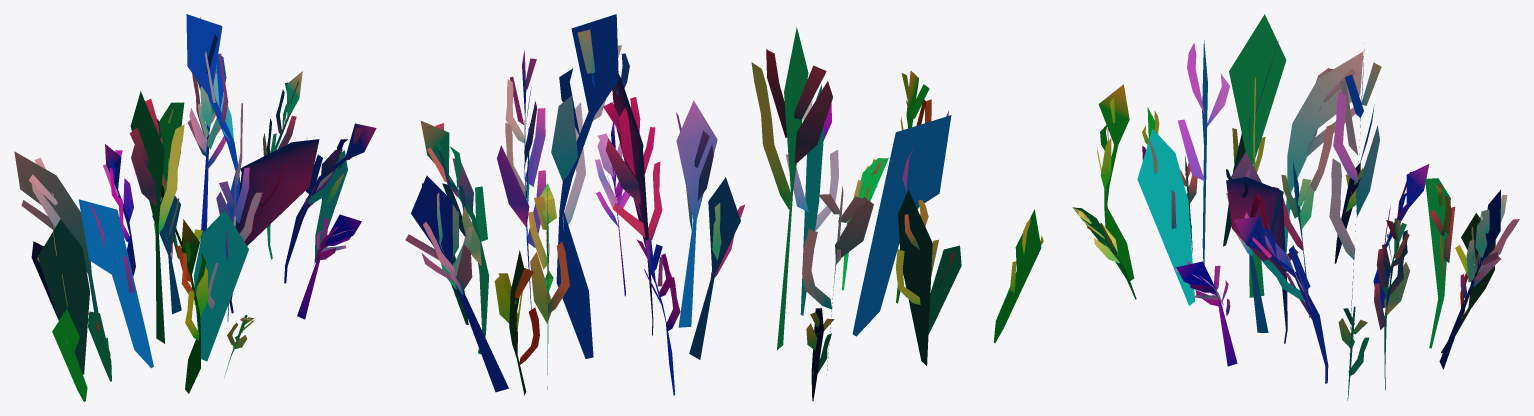
The model's file is Nordic_Coastal_Groundcover_vlqkdeaja_Mid_vlqkdeaja_VarH_LOD1.fbx.
The picture shows the model from 3 angles, left to right: view 1: azimuth 30°, elevation 25°; view 2: azimuth 150°, elevation 25°; view 3: azimuth 270°, elevation 25°; orthographic projection. The views are drawn at different scales.
Visible parts, largest first — view 1: _mf5t_VarH_LOD3; view 2: _mf5t_VarH_LOD3; view 3: _mf5t_VarH_LOD3.
Boxes of the visible parts, bbox=[...] form: _mf5t_VarH_LOD3: bbox=[14, 14, 376, 401]; _mf5t_VarH_LOD3: bbox=[405, 14, 1043, 401]; _mf5t_VarH_LOD3: bbox=[1072, 14, 1519, 400].
Bounding box in the file's own units: 130 × 89.55 × 121.
